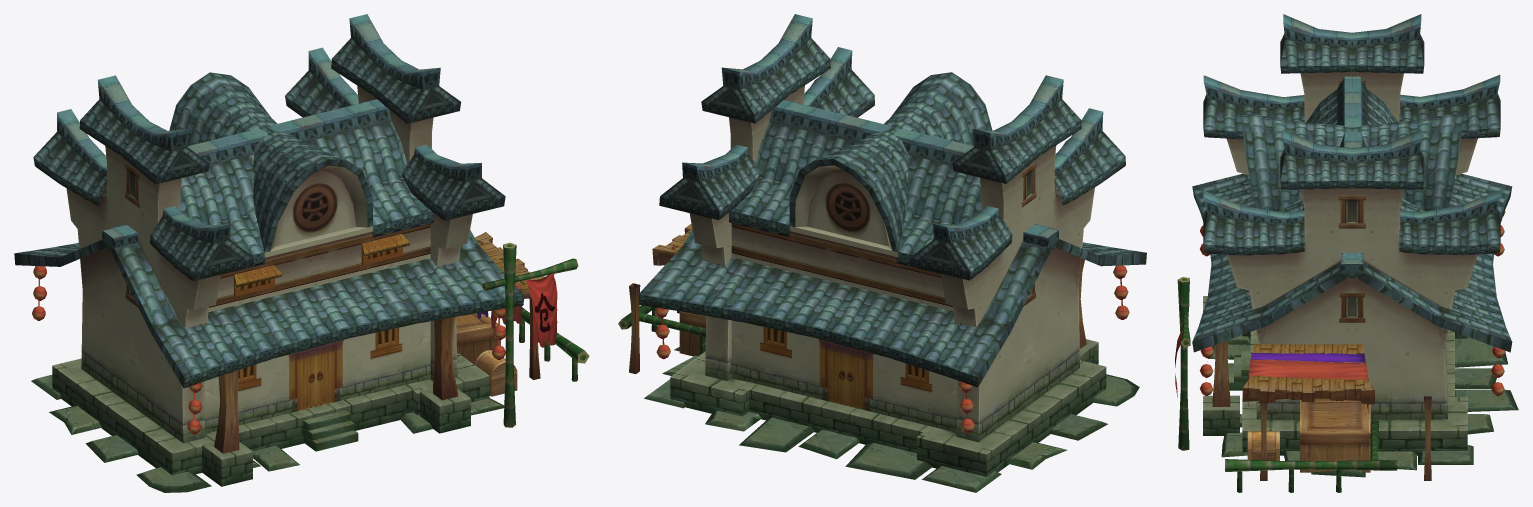
The model's file is taoyuanzhen_cangku_01.FBX.
The picture shows the model from 3 angles, left to right: view 1: azimuth 30°, elevation 25°; view 2: azimuth 150°, elevation 25°; view 3: azimuth 270°, elevation 25°; orthographic projection. The views are drawn at different scales.
Visible parts, largest first — view 1: taoyuanzhen_cangku_01; view 2: taoyuanzhen_cangku_01; view 3: taoyuanzhen_cangku_01.
Part boxes in pixels (left/top/right/bottom): taoyuanzhen_cangku_01: left=14, top=14, right=589, bottom=492; taoyuanzhen_cangku_01: left=618, top=14, right=1146, bottom=492; taoyuanzhen_cangku_01: left=1175, top=14, right=1518, bottom=492.
Size of the model in its own units: 1515 by 1063 by 1083.
